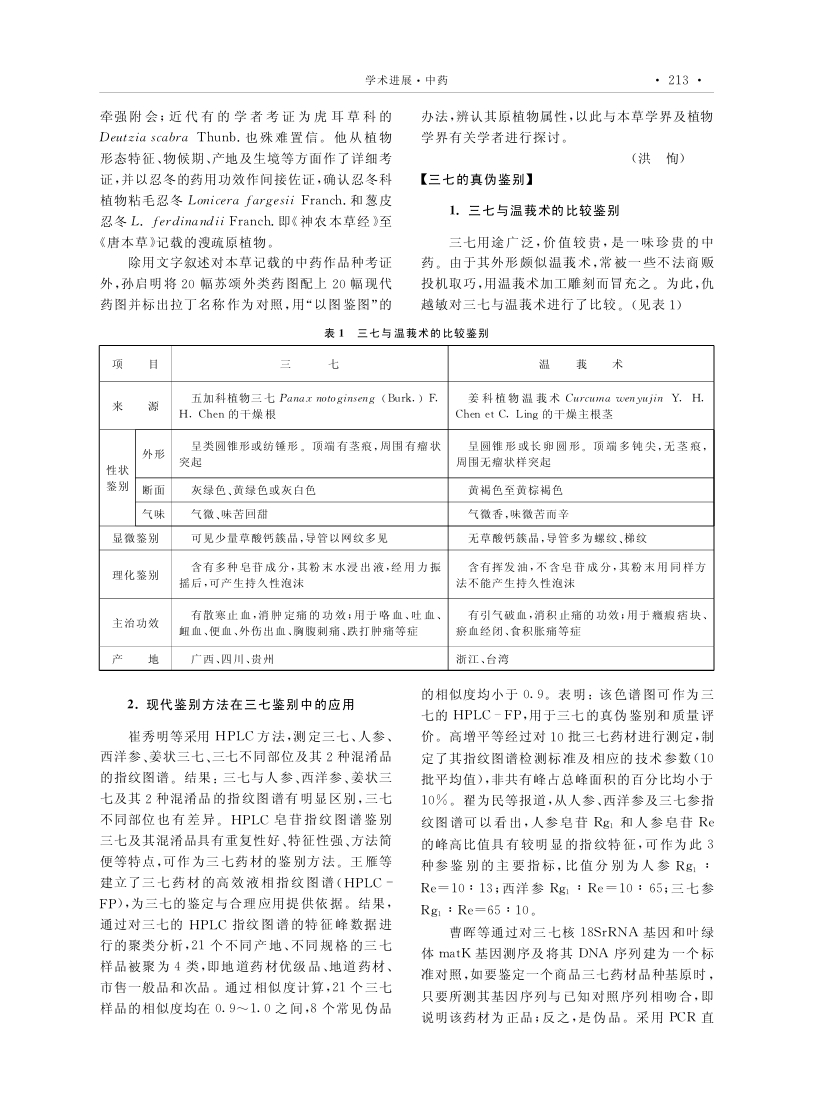table: (98, 344, 714, 671)
